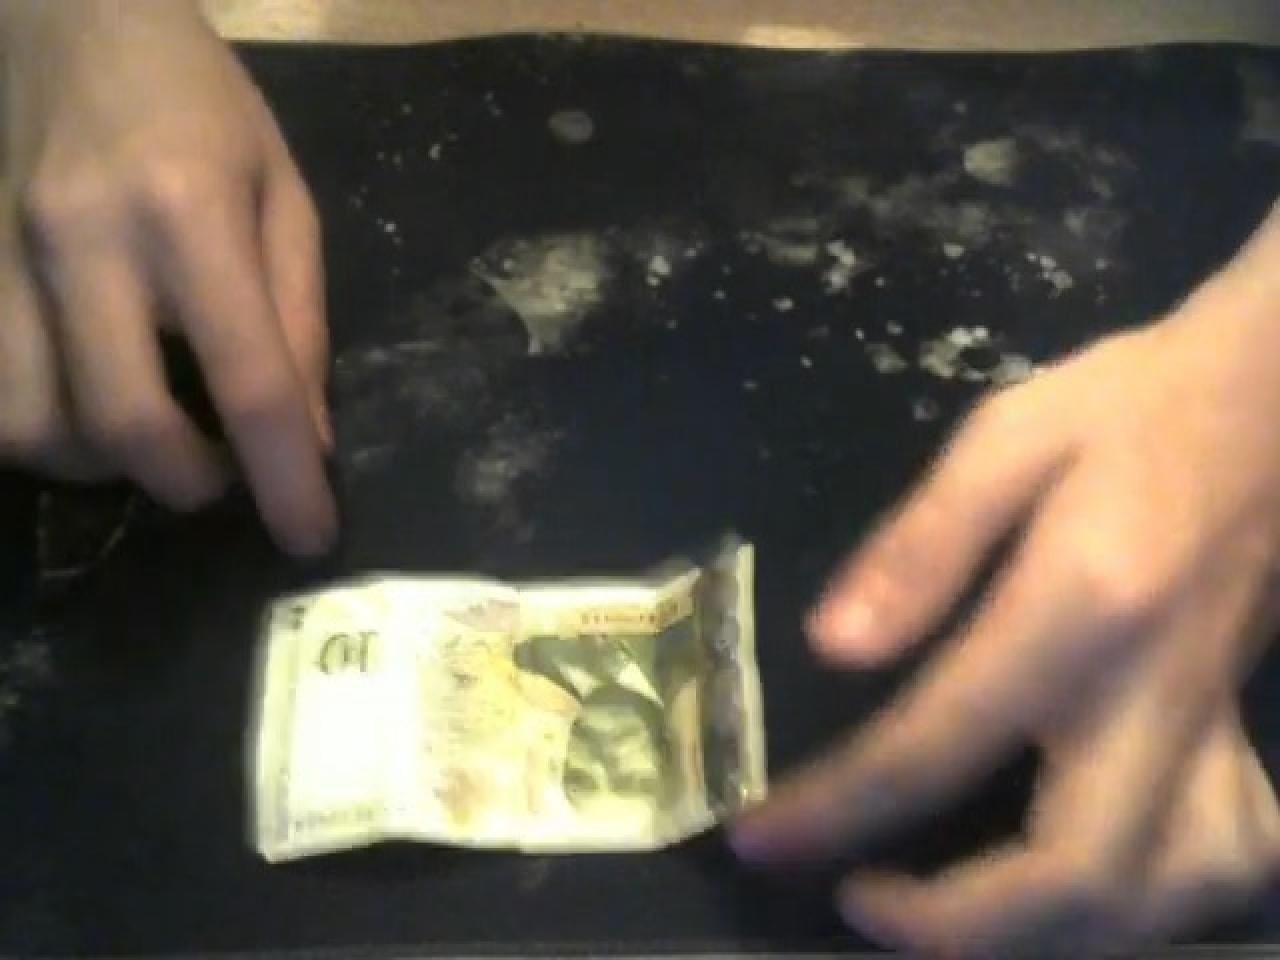10leva: (242, 544, 768, 869)
